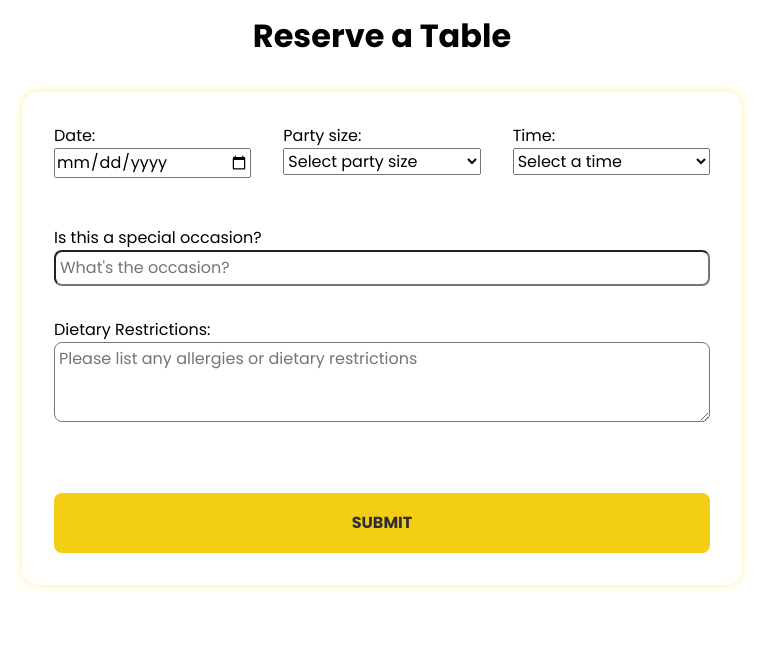
Reservations › shows an error when the reservation submission fails
Type "2026-10-15" into the date field labelled "Date:". click: (153, 163)
box: [54, 148, 251, 178]
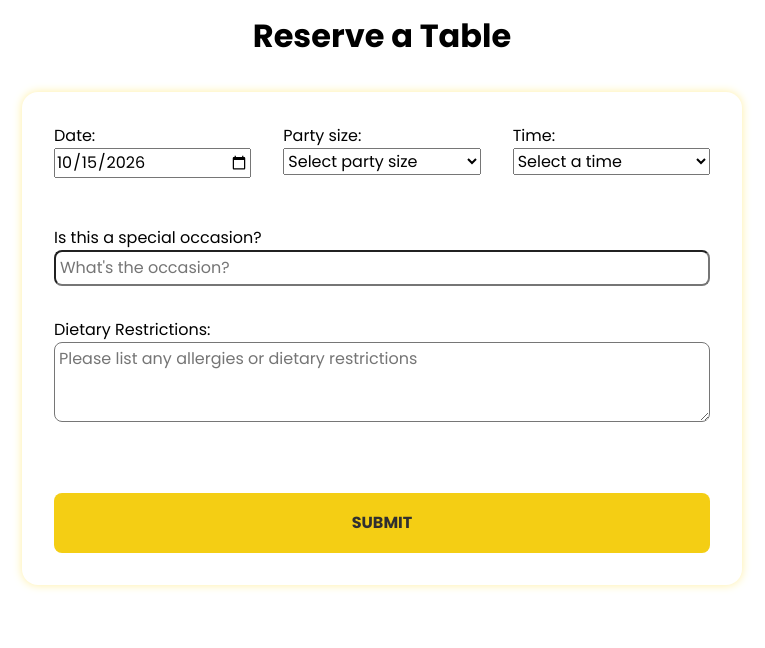
Select "2" in the dropdown labelled "Party size:". click: (382, 162)
box: [283, 148, 481, 175]
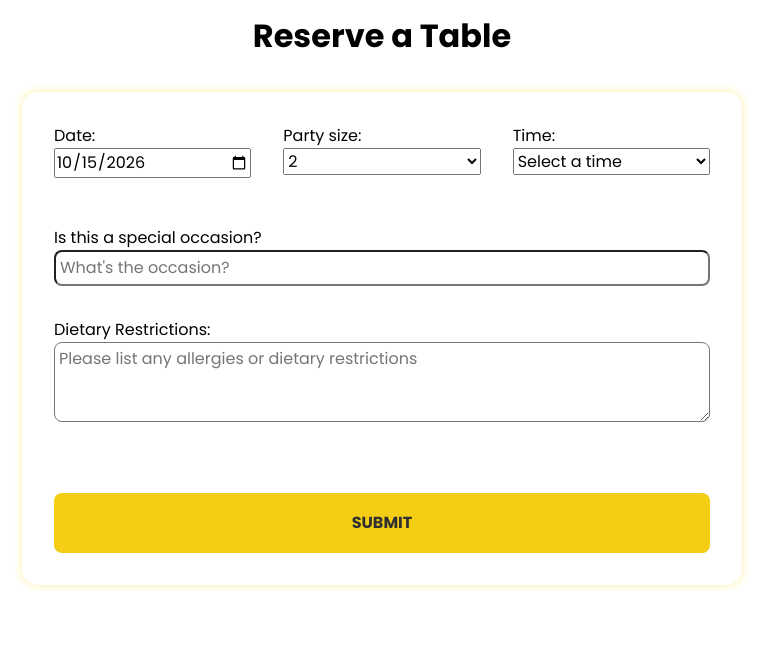
Select "17:00" in the dropdown labelled "Time:". click: (611, 162)
box: [513, 148, 710, 175]
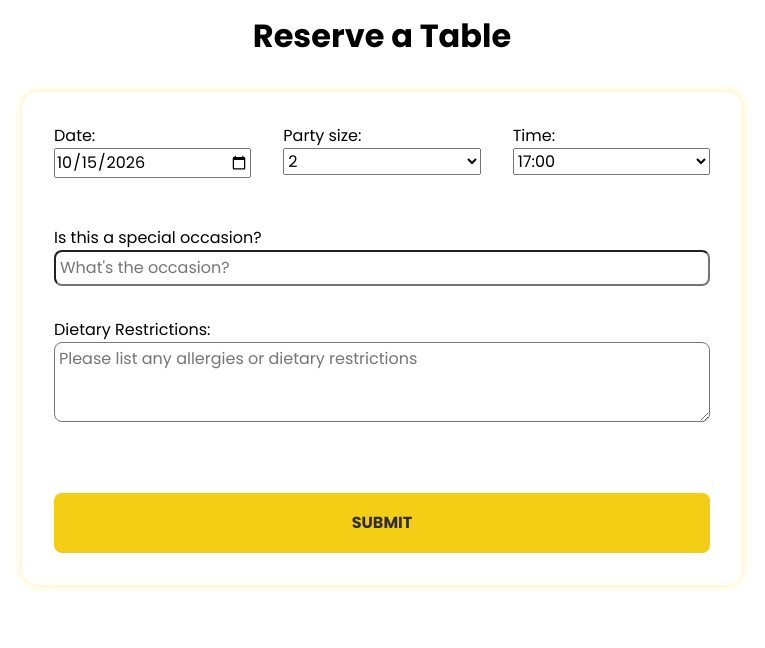
Click the button "Submit". click: click(382, 523)
box: [54, 493, 710, 553]
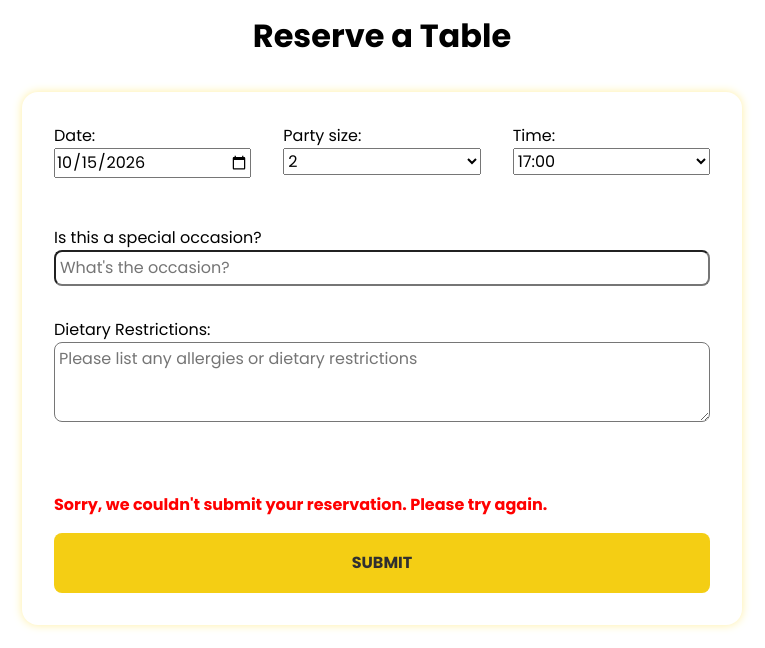
Result: the message reads "Sorry, we couldn't submit your reservation. Please try again." at [54, 493, 547, 516]
